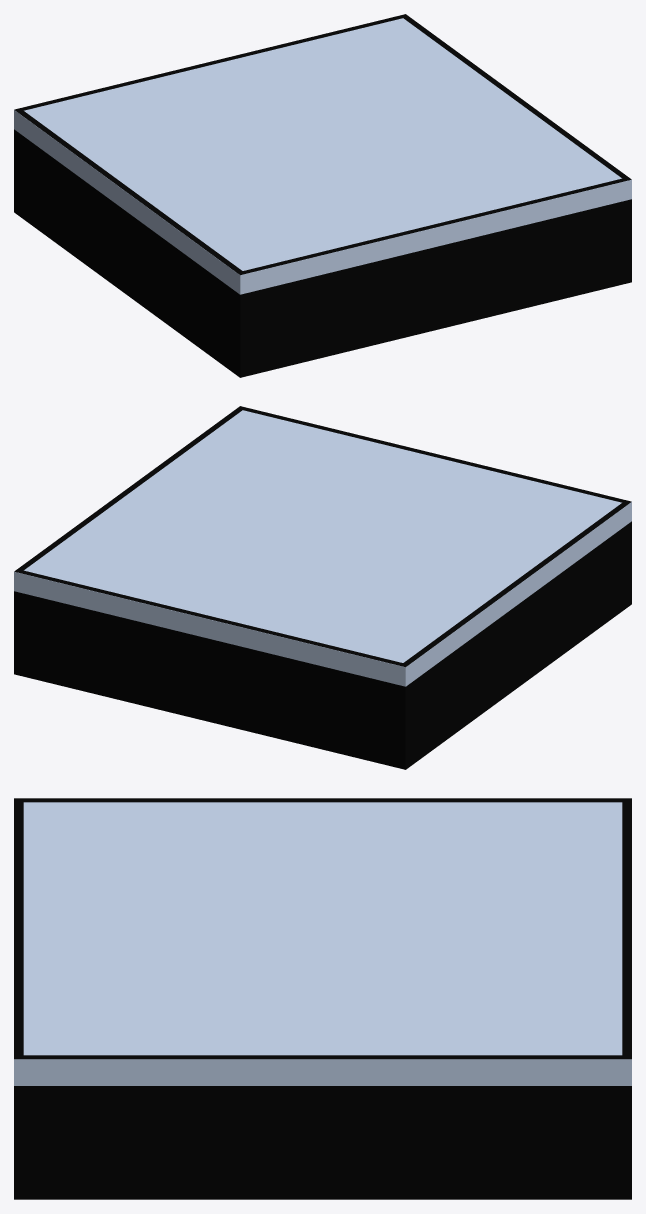
The model's file is Path_tile.glb.
The picture shows the model from 3 angles, top to bottom: view 1: azimuth 30°, elevation 25°; view 2: azimuth 150°, elevation 25°; view 3: azimuth 270°, elevation 25°; orthographic projection. The views are drawn at different scales.
Parts seen in each view (by area): view 1: Cube, Plane; view 2: Cube, Plane; view 3: Cube, Plane.
Boxes of the visible parts, x1=… form: Cube: x1=14, y1=18, x2=631, y2=377; Plane: x1=14, y1=14, x2=631, y2=275; Cube: x1=14, y1=410, x2=631, y2=769; Plane: x1=14, y1=406, x2=631, y2=667; Cube: x1=14, y1=802, x2=631, y2=1199; Plane: x1=14, y1=798, x2=631, y2=1059.
Bounding box in the file's own units: 2 × 0.5009 × 2.
